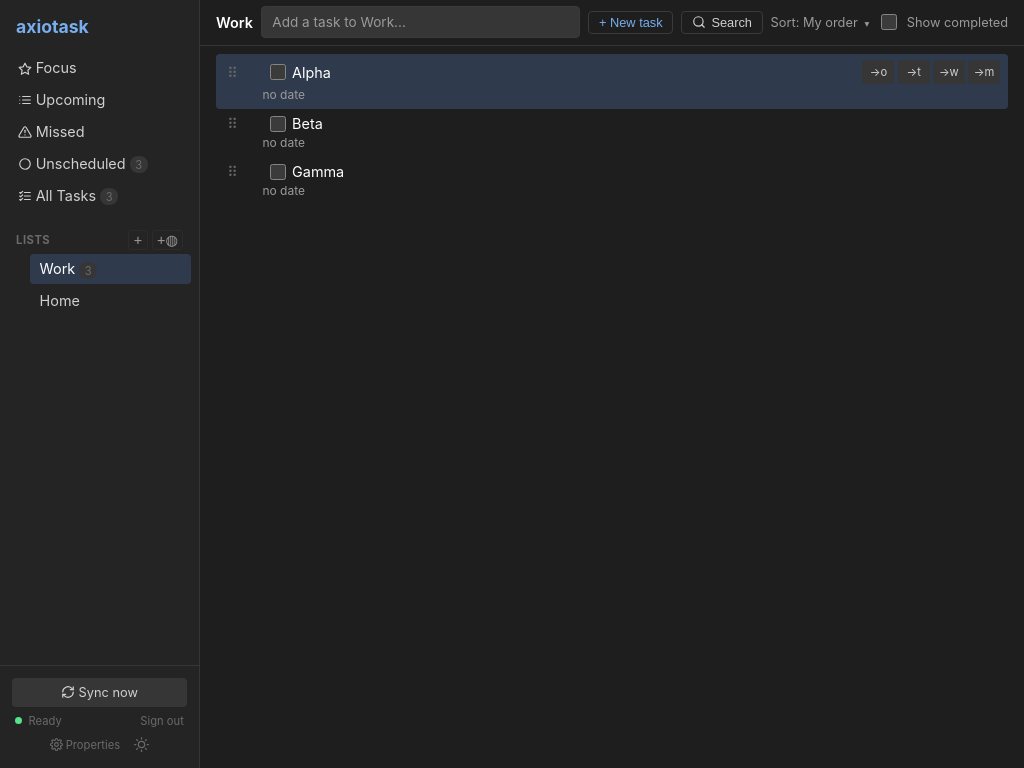
Test: Bulk operations › bulk Complete marks all selected tasks complete
This screenshot has width=1024, height=768.
Check: the text "Alpha" is shown, box [292,64,331,81]
Press x
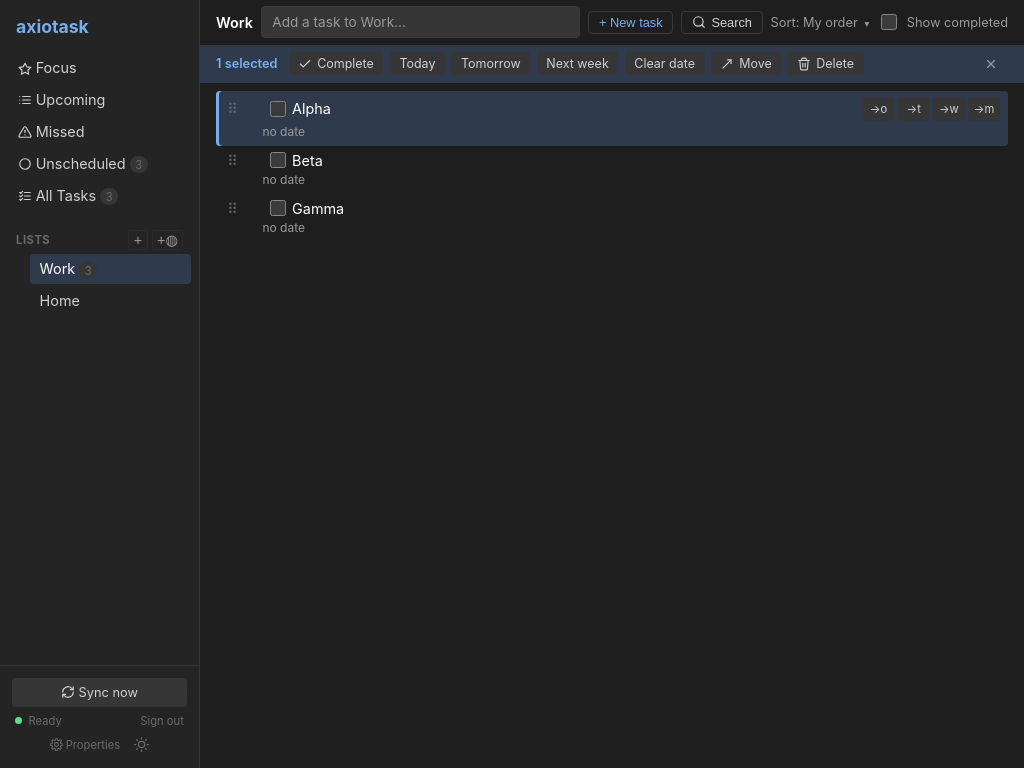
Press j
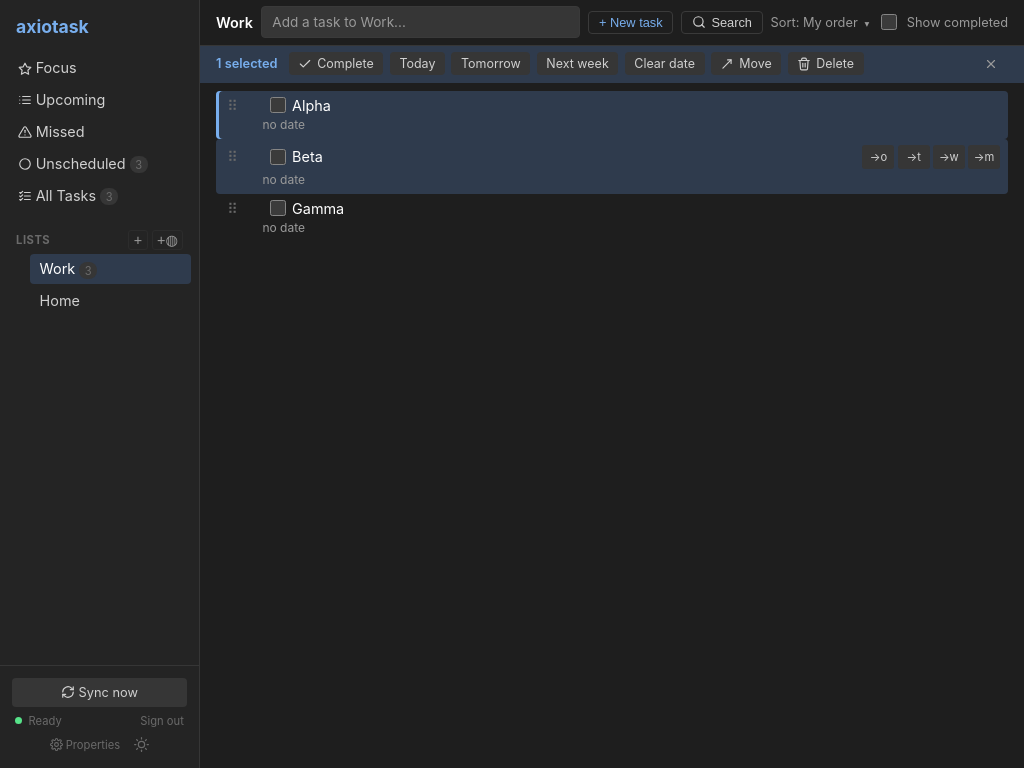
Press x
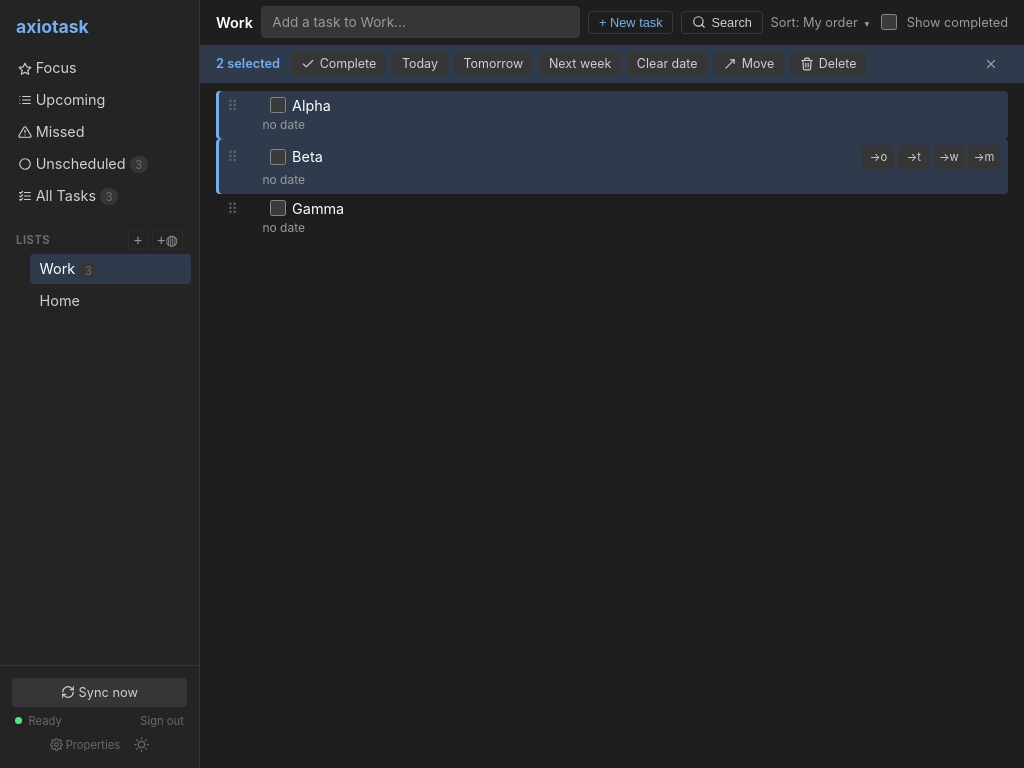
Click the button "Complete": (339, 64) [291,52,386,75]
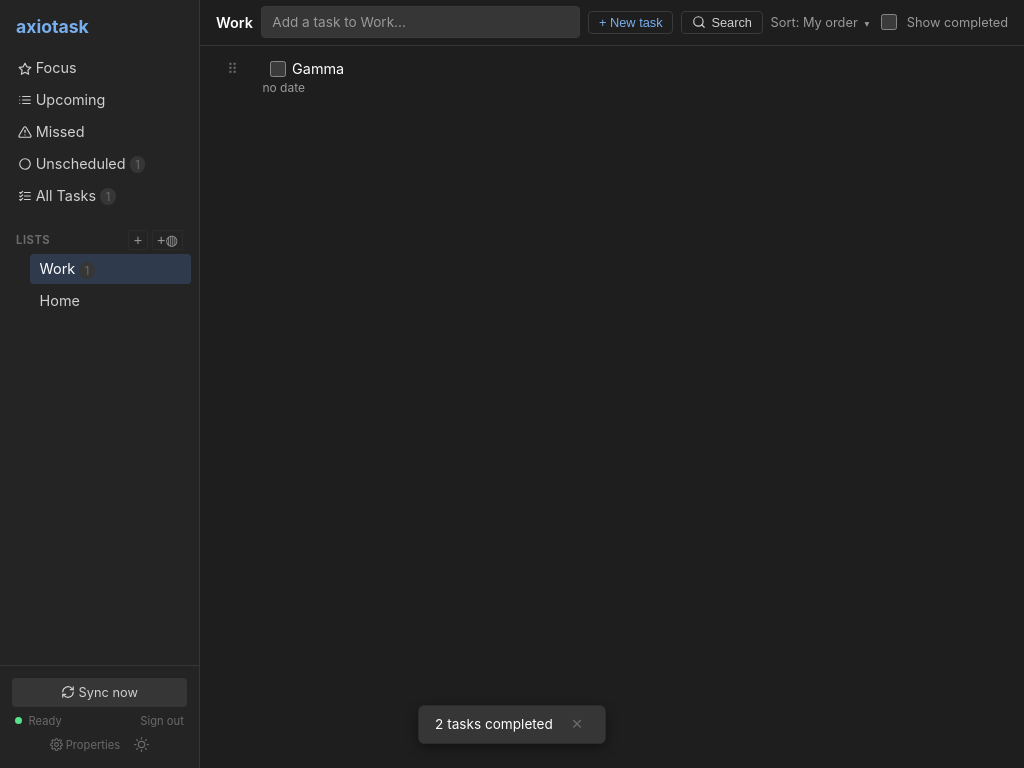
Check: the element with class "bulk-bar" is gone
